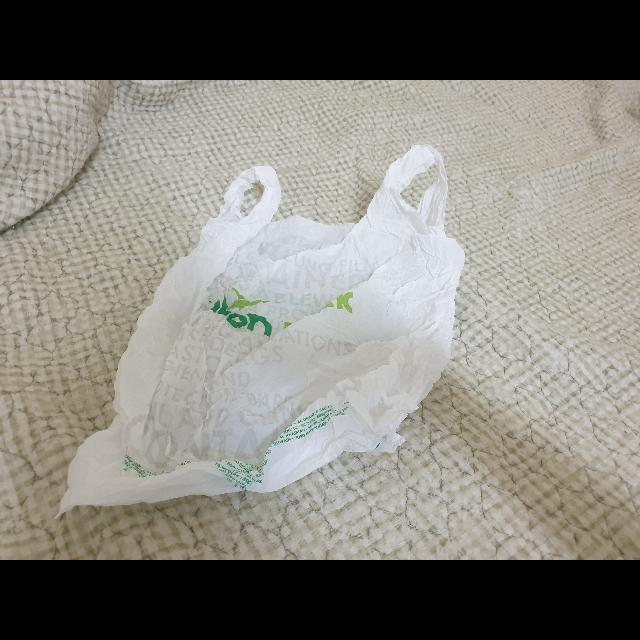plastic_bag: (47, 138, 470, 526)
